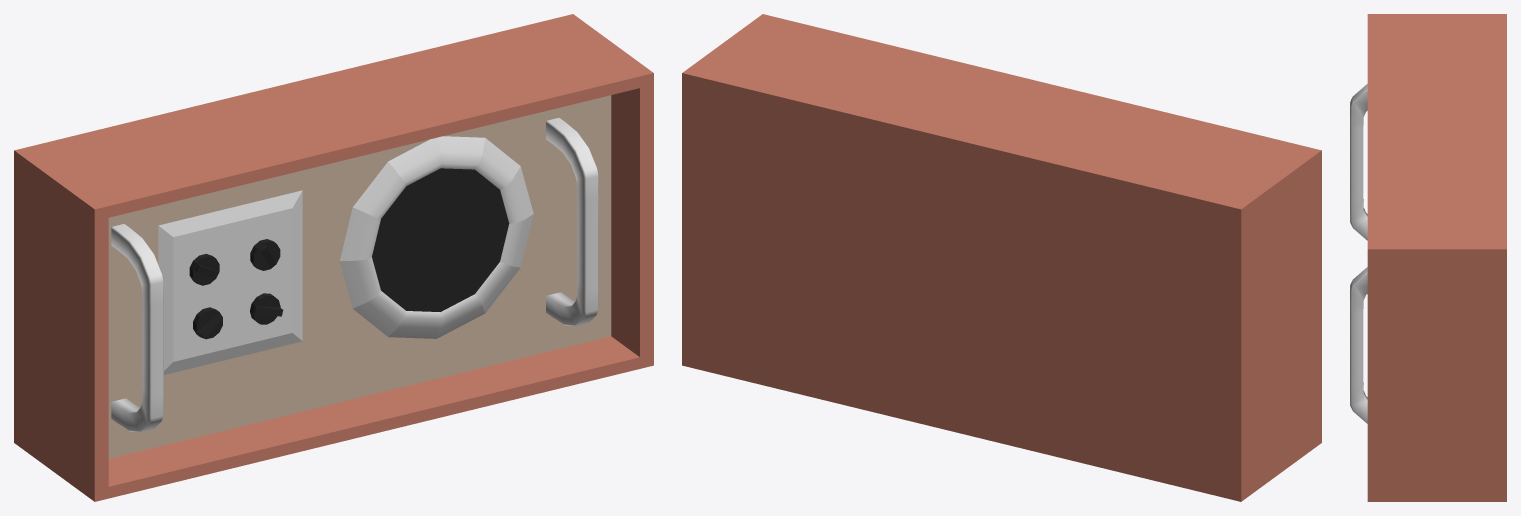
Rendered from Block3B.fbx.
3 renders of one model, left to right at view 1: azimuth 30°, elevation 25°; view 2: azimuth 150°, elevation 25°; view 3: azimuth 270°, elevation 25°, orthographic. The views are drawn at different scales.
Parts seen in each view (by area): view 1: Block3B; view 2: Block3B; view 3: Block3B.
Part boxes in pixels (bbox=[...]): Block3B: bbox=[14, 14, 653, 501]; Block3B: bbox=[682, 14, 1321, 501]; Block3B: bbox=[1350, 14, 1506, 501].
Bounding box in the file's own units: 2 × 1 × 0.5633.
